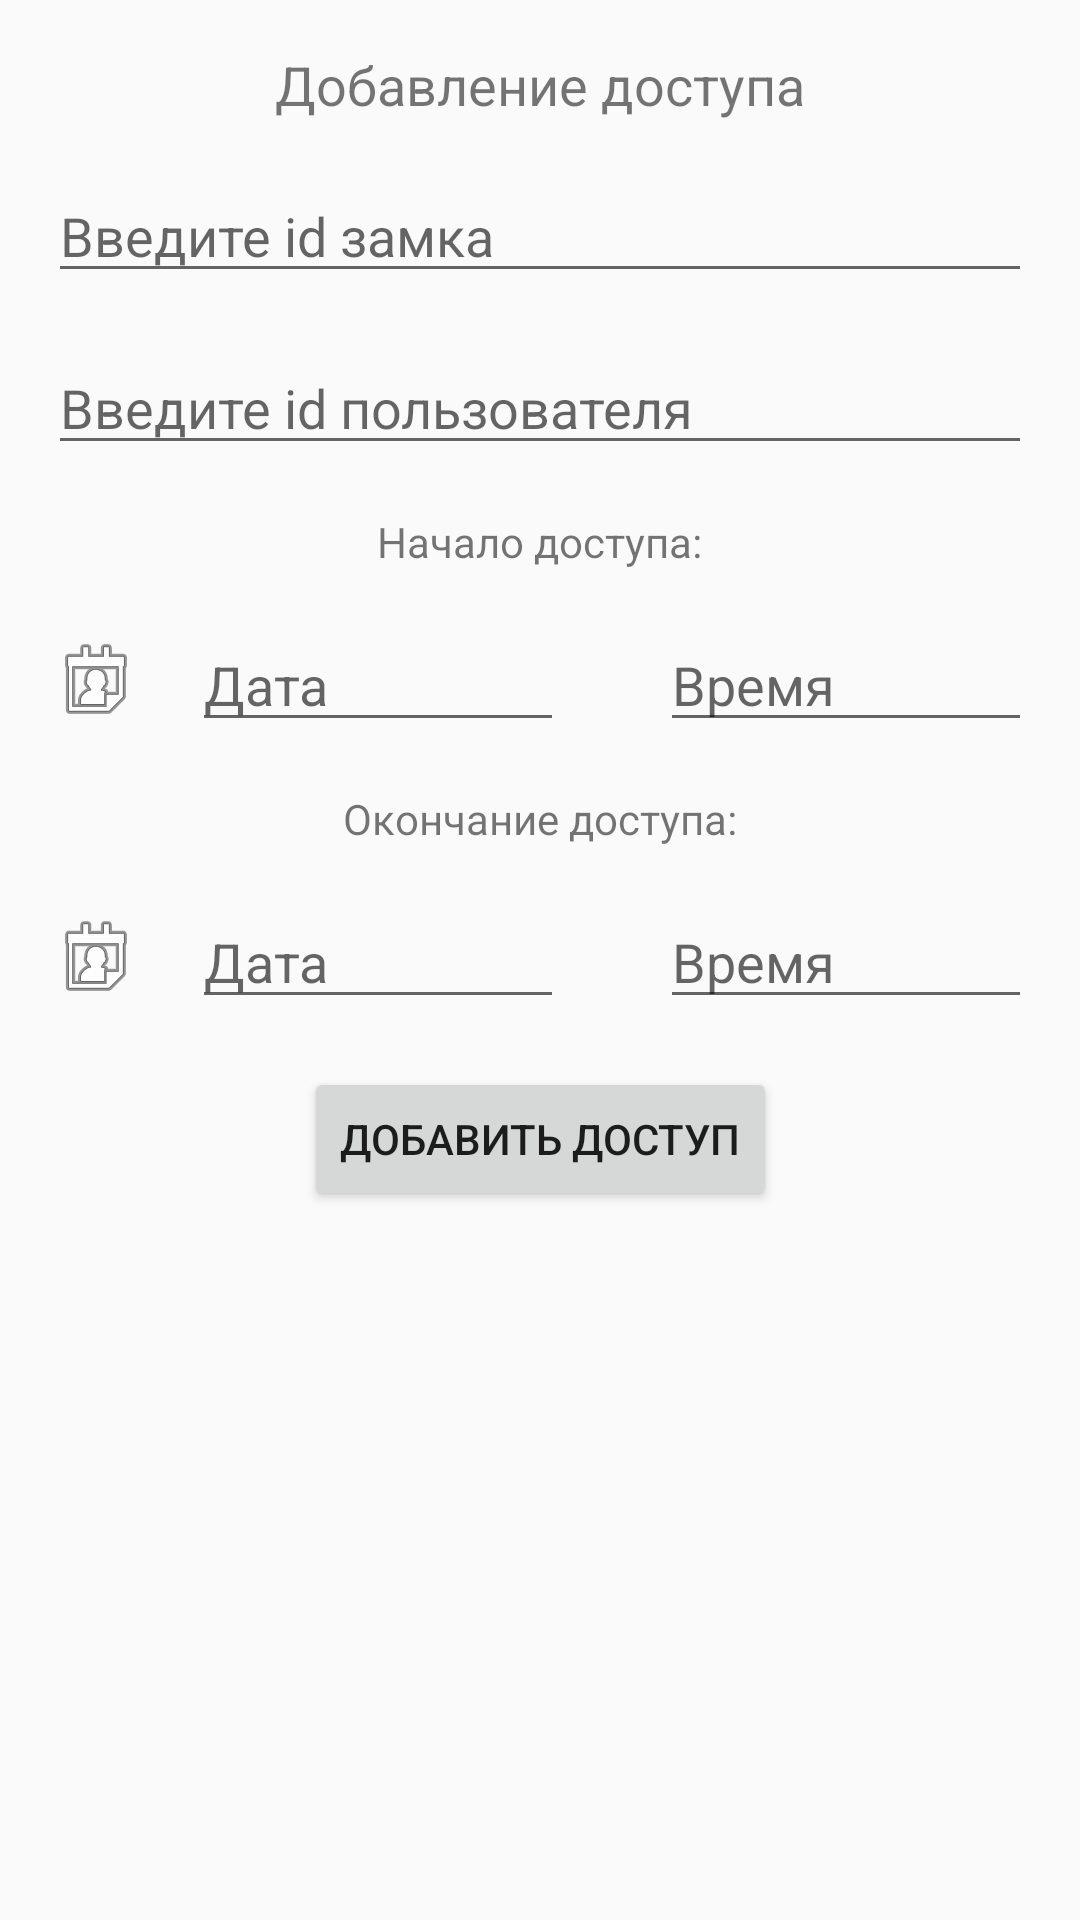

Named icons in this screenshot (1080*1920) and their bounding boxes, (left=x1, top=y1, right=x2, bottom=y2):
calendar: (left=65, top=644, right=127, bottom=714), (left=65, top=921, right=127, bottom=991)
